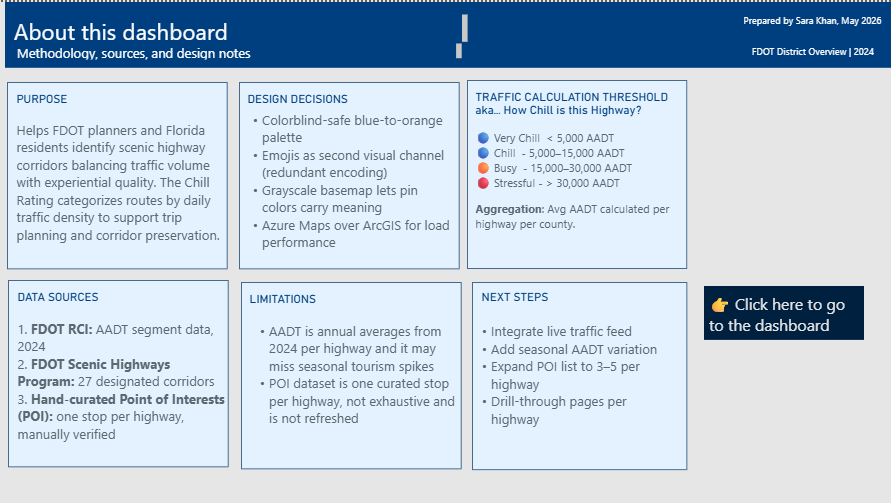

Layout of this report page (visuals, bound fields, positions):
{"tool":"powerbi","page":{"name":"About","canvas":[1280,720],"ordinal":0},"visuals":[{"type":"shape","box":[13,0,1267,94],"z":0},{"type":"textbox","box":[26.2,12.5,647.5,46.2],"z":1000},{"type":"textbox","box":[1059.3,56.6,204.3,30],"z":2000},{"type":"textbox","box":[24.3,54.3,645.7,32.9],"z":3000},{"type":"shape","box":[16.2,113.8,315,267.5],"z":4000},{"type":"textbox","box":[23.8,165,307.5,216.2],"z":5000},{"type":"textbox","box":[1051.2,12.5,218.8,30],"z":8000},{"type":"textbox","box":[23.8,122.5,260,40],"z":10000},{"type":"shape","box":[17.5,397.5,315,267.5],"z":11000},{"type":"textbox","box":[25,448.8,306.2,216.2],"z":12000},{"type":"textbox","box":[25,406.2,260,40],"z":13000},{"type":"shape","box":[347.5,113.8,315,267.5],"z":14000},{"type":"textbox","box":[347.5,150,315,228.8],"z":15000},{"type":"textbox","box":[355,122.5,260,40],"z":16000},{"type":"shape","box":[350,400,315,267.5],"z":16001},{"type":"textbox","box":[357.5,451.2,307.5,195],"z":16002},{"type":"textbox","box":[357.5,408.8,260,40],"z":16003},{"type":"shape","box":[672.7,110.9,314.5,270],"z":16004},{"type":"textbox","box":[680,178.8,307.5,181.2],"z":16005},{"type":"textbox","box":[680,120,307.5,58.8],"z":16006},{"type":"shape","box":[680,400,307.5,268.8],"z":16007},{"type":"textbox","box":[673.8,436.2,276.2,216.2],"z":16008},{"type":"textbox","box":[688.8,406.2,307.5,58.8],"z":16009},{"type":"actionButton","box":[1011.4,405.7,228.6,77.1],"z":16010}]}

Visuals, with their boxes in screenshot pixels (x1, y1, x2, y2), scaled from the page's 1280x720 canvas onto the 891x503 screenshot:
shape: (9, 0, 890, 66)
textbox: (18, 9, 469, 41)
textbox: (737, 40, 880, 60)
textbox: (17, 38, 466, 61)
shape: (11, 80, 231, 266)
textbox: (17, 115, 231, 266)
textbox: (732, 9, 884, 30)
textbox: (17, 86, 198, 114)
shape: (12, 278, 231, 465)
textbox: (17, 314, 231, 465)
textbox: (17, 284, 198, 312)
shape: (242, 80, 461, 266)
textbox: (242, 105, 461, 265)
textbox: (247, 86, 428, 114)
shape: (244, 279, 463, 466)
textbox: (249, 315, 463, 451)
textbox: (249, 286, 430, 314)
shape: (468, 77, 687, 266)
textbox: (473, 125, 687, 252)
textbox: (473, 84, 687, 125)
shape: (473, 279, 687, 467)
textbox: (469, 305, 661, 456)
textbox: (479, 284, 694, 325)
actionButton: (704, 283, 863, 337)
